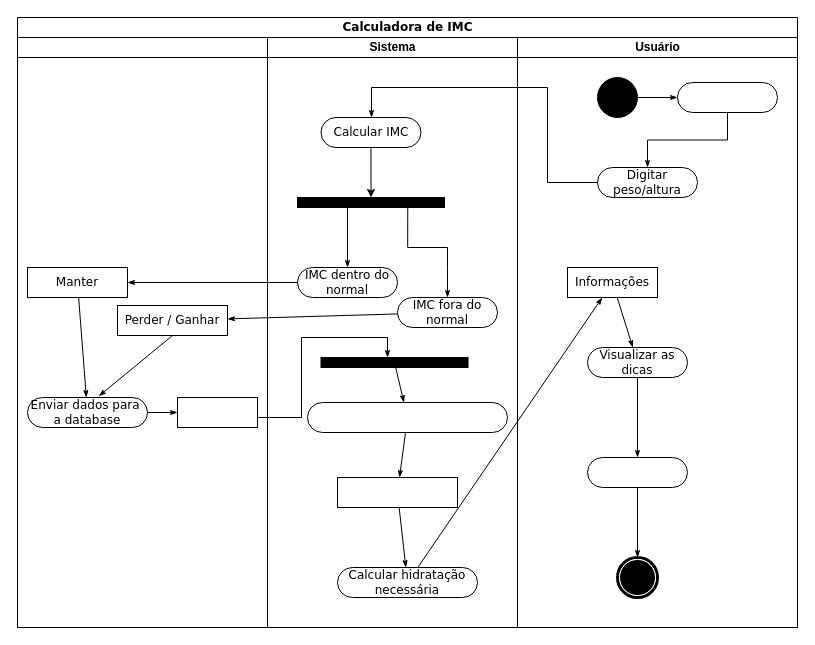
Some shapes in this 815 by 645 pixel diagram are drawn without their labels. Each missing label, with the box of its shape:
Específico para cada Usuário: (336, 476, 458, 508)
Login: (676, 82, 778, 112)
Logout: (586, 456, 688, 488)
Peso e altura + IMC: (176, 396, 258, 428)
Procurar no banco de dados recomendações de dieta e treino: (306, 402, 508, 432)
Recomendação: (16, 36, 268, 628)
